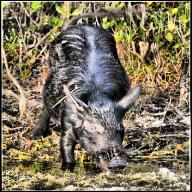boar: (40, 16, 140, 184)
